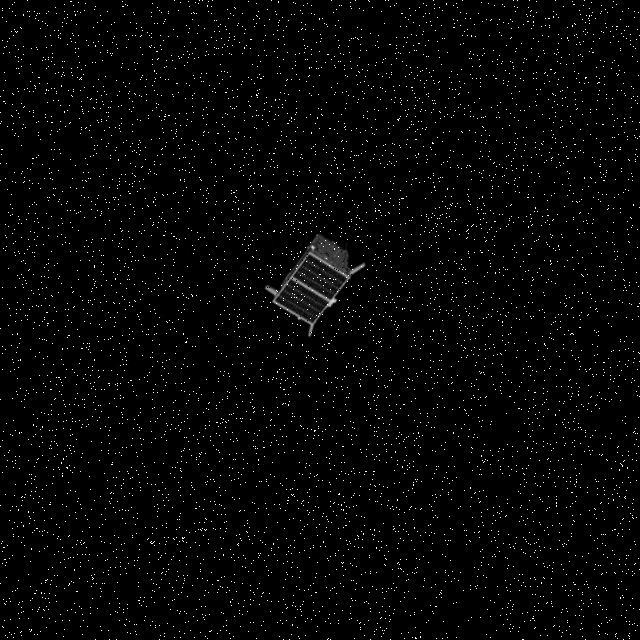medium_debris: (268, 236, 370, 340)
